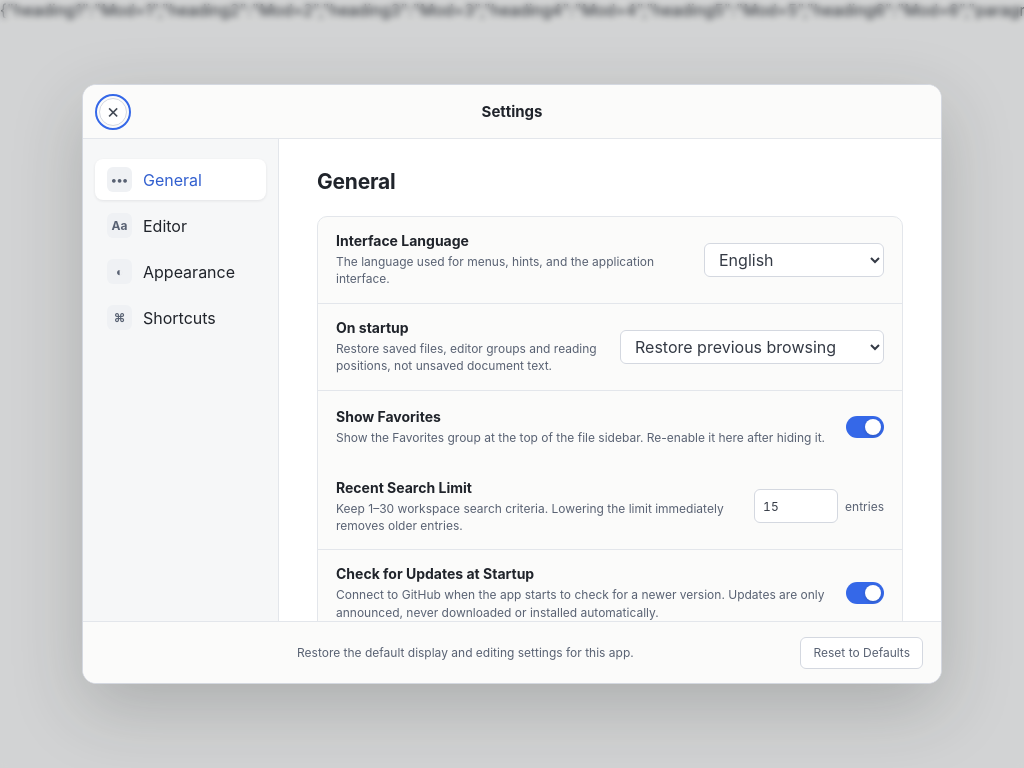
ShortcutSettings › records, clears and restores one binding while leaving other settings alone
Click the tab "⌘ Shortcuts": x=180, y=318 x1=95 y1=297 x2=266 y2=338
(page scrolled)
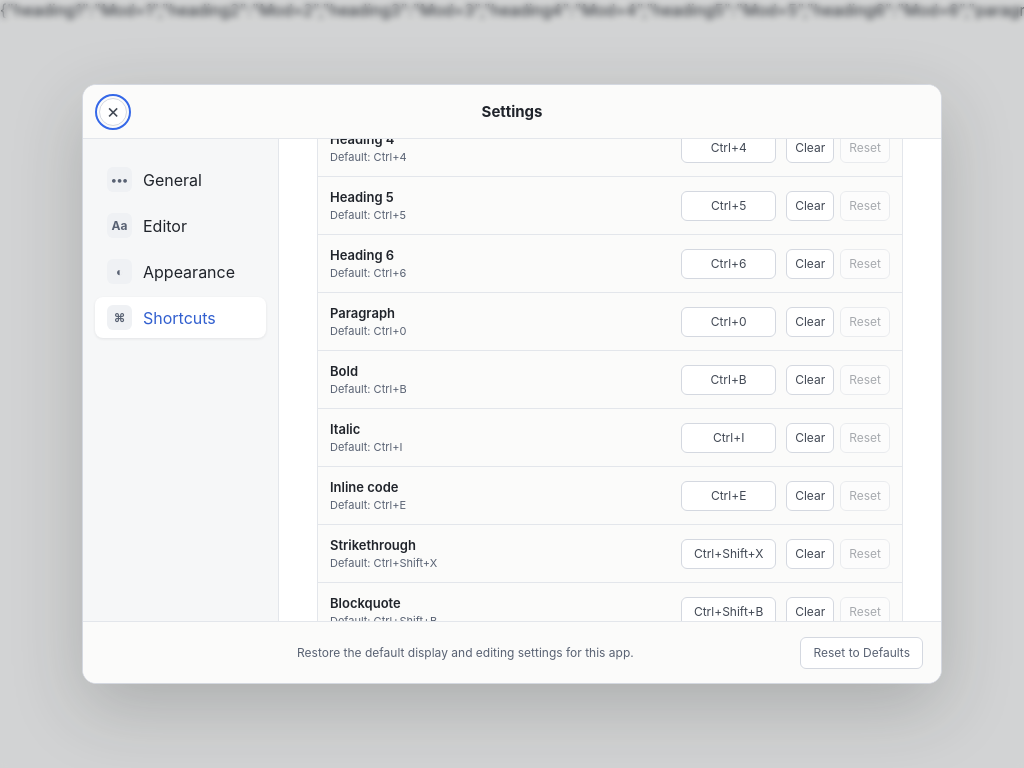
Click the button with aria-label "Record shortcut for Bold": x=729, y=380 x1=681 y1=365 x2=776 y2=395
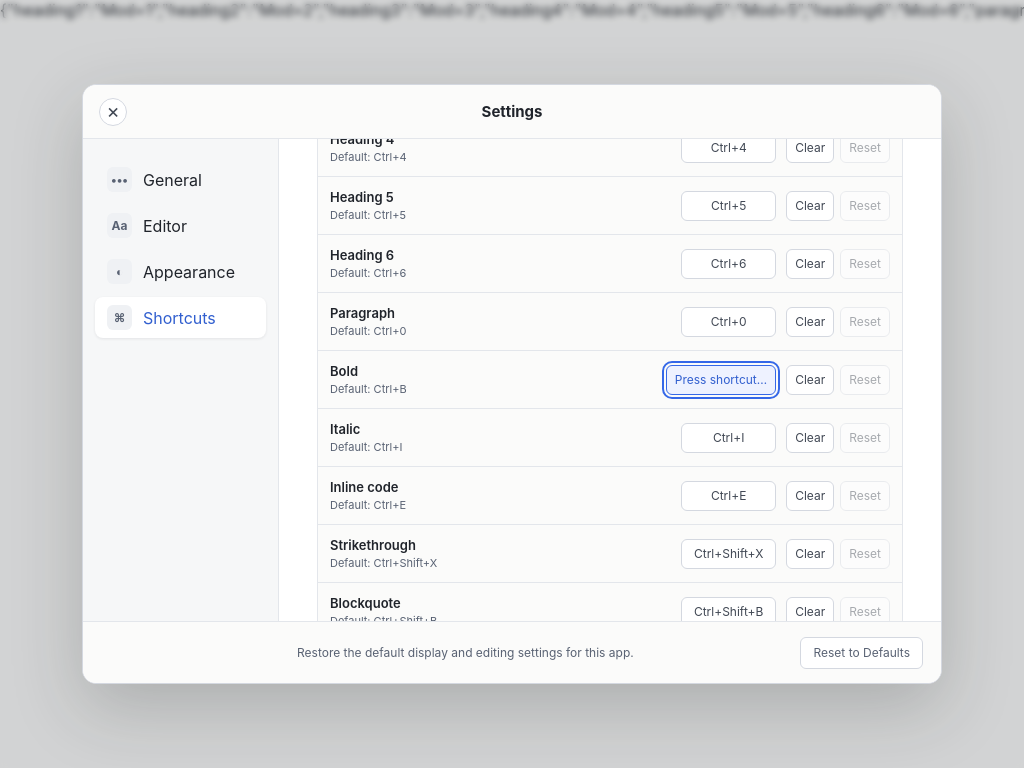
Press j in the button with aria-label "Record shortcut for Bold", box x1=666 y1=365 x2=776 y2=395
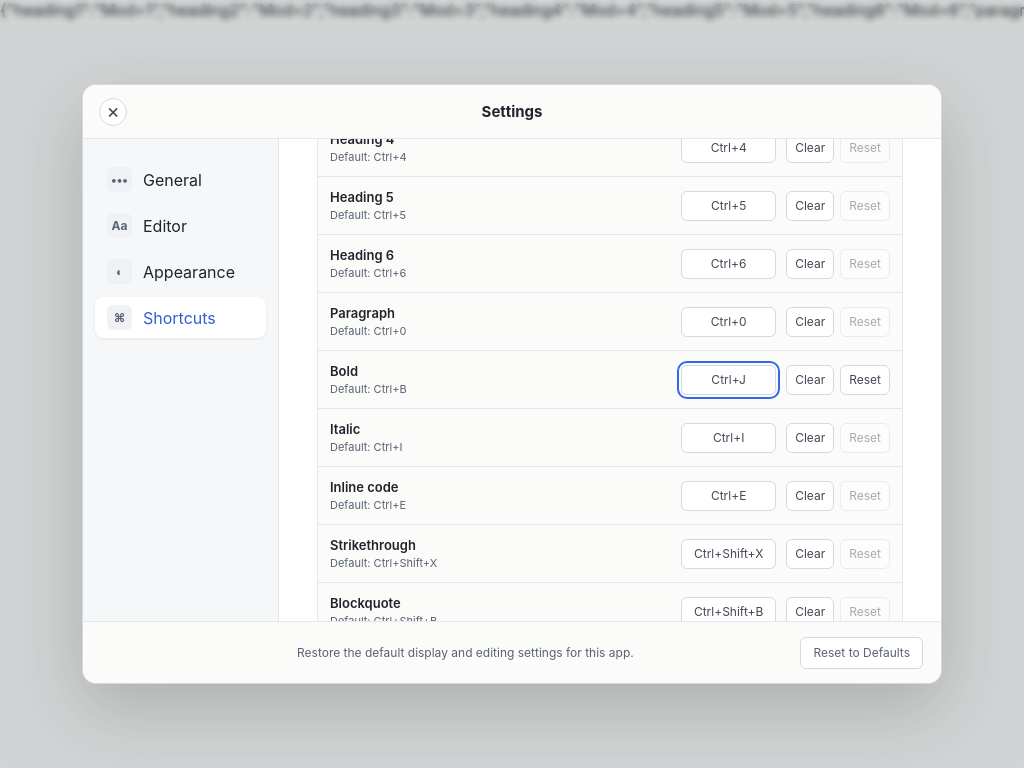
Expected: the button with aria-label "Record shortcut for Bold" reads "Ctrl+J", x1=681 y1=365 x2=776 y2=395
Click the button with aria-label "Clear shortcut for Bold": x=810, y=380 x1=786 y1=365 x2=834 y2=395
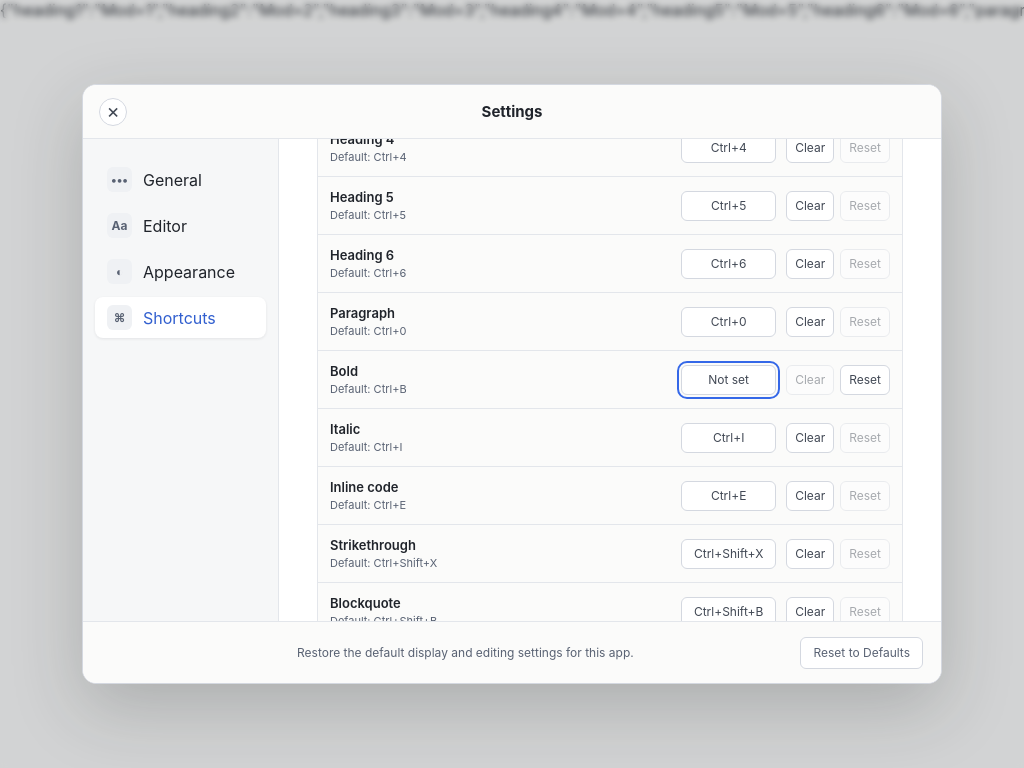
Expected: the button with aria-label "Record shortcut for Bold" reads "Not set", x1=681 y1=365 x2=776 y2=395
Click the button with aria-label "Reset shortcut for Bold": x=865, y=380 x1=840 y1=365 x2=890 y2=395
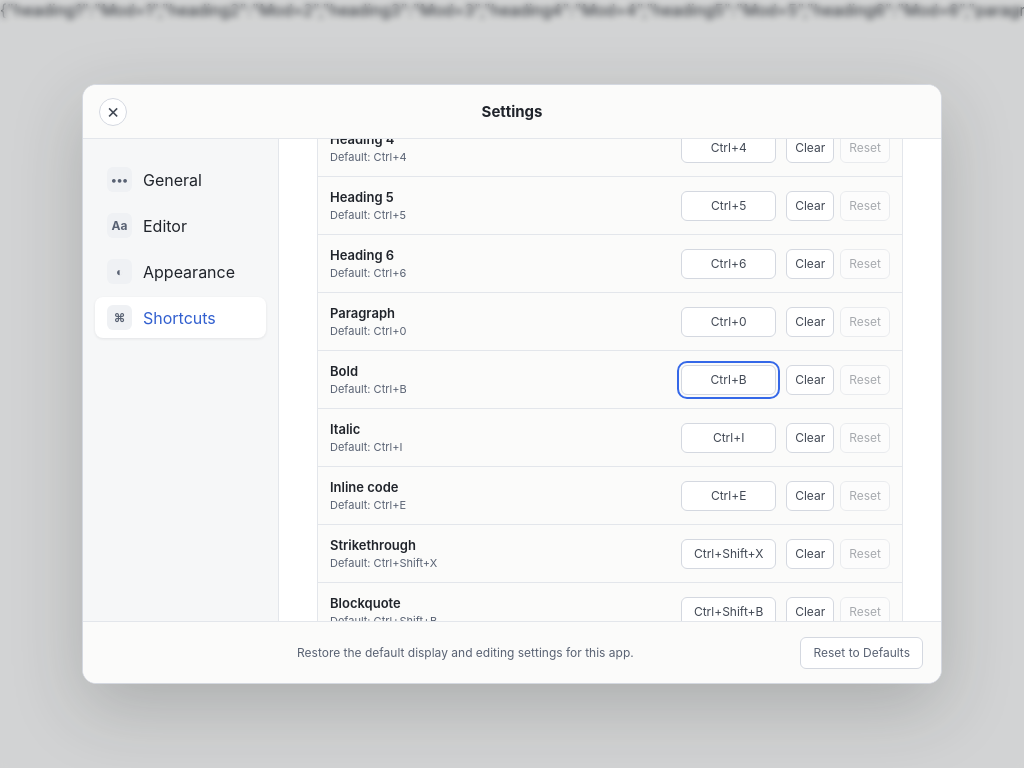
Expected: the button with aria-label "Record shortcut for Bold" reads "Ctrl+B", x1=681 y1=365 x2=776 y2=395
Expected: the button with aria-label "Reset shortcut for Bold" is disabled, x1=840 y1=365 x2=890 y2=395
